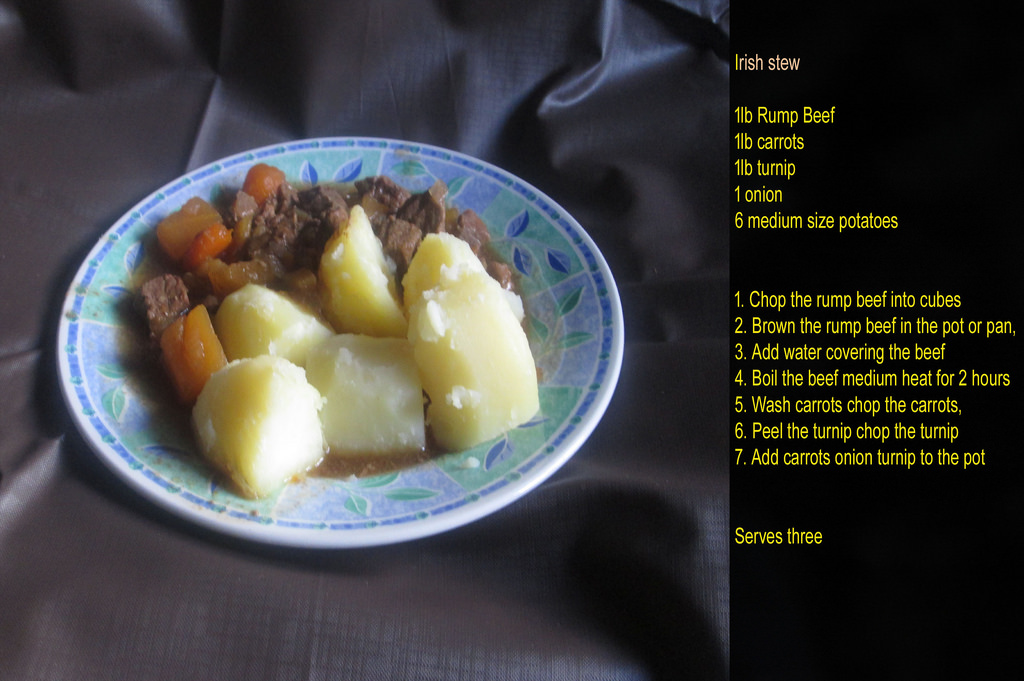boiled potatoes: (195, 265, 558, 469), (398, 238, 543, 438), (178, 357, 328, 478)
